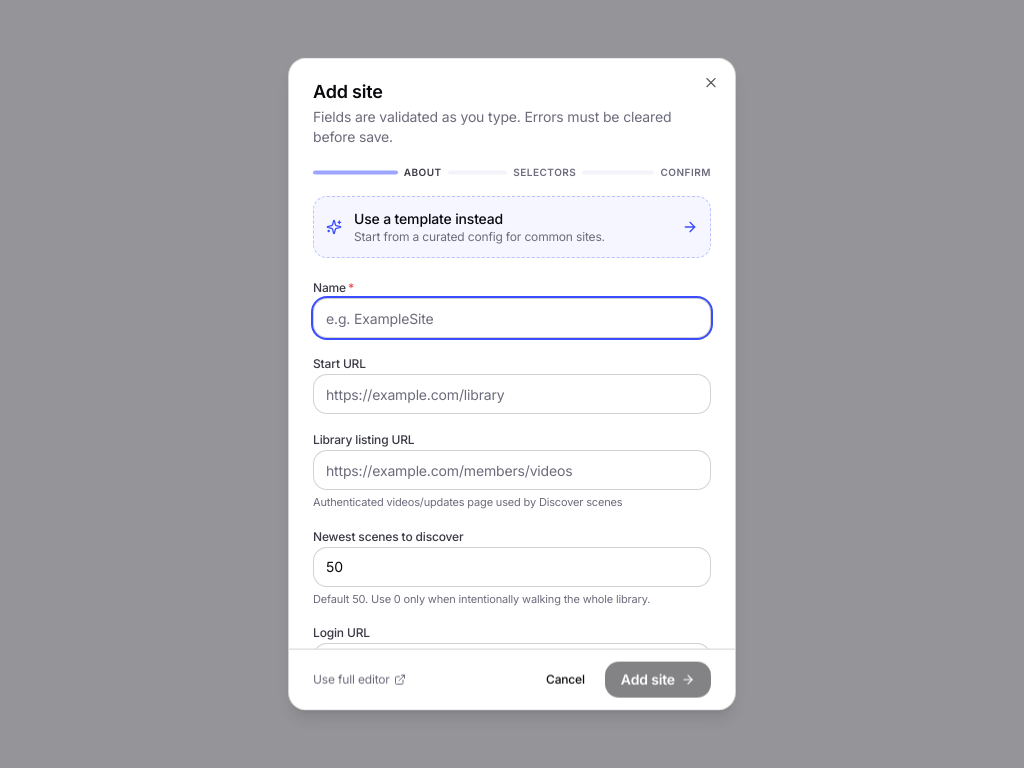
Test: AddSiteWizard shared-primitive adoption (Slice 4c.4 / 4d) › shows an advisory error for a non-URL Start URL and clears it for a valid one
Type "not a url" into the field with placeholder "https://example.com/library". click: (512, 394)
box: [313,374,711,414]
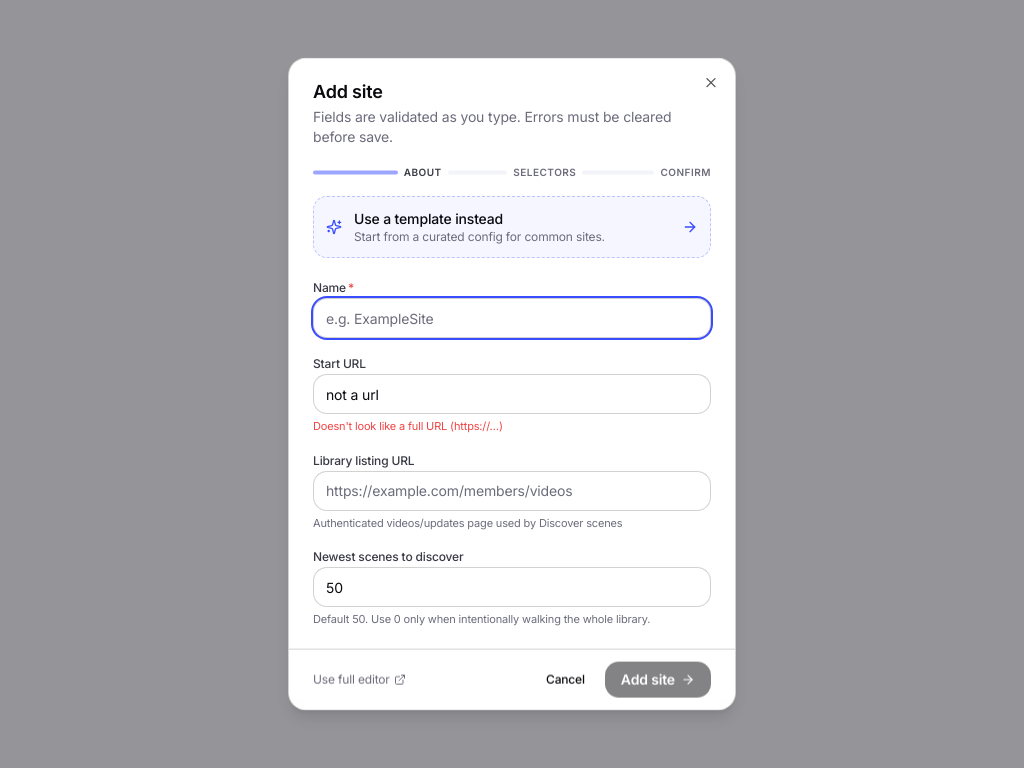
Check: the message shows "full URL", box [313,419,503,433]
Replace the text in the field with placeholder "https://example.com/library" with "https://example.com/x". click: (512, 394)
box: [313,374,711,414]
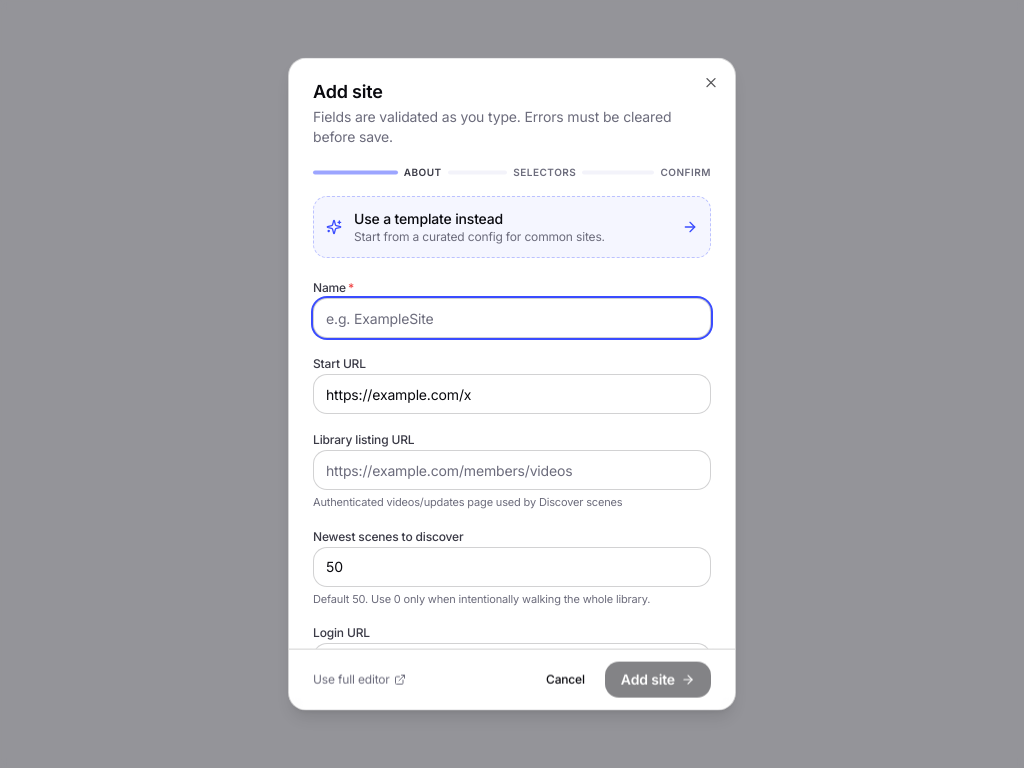
Check: the message "Doesn't look like a full URL (https://…)" is gone
